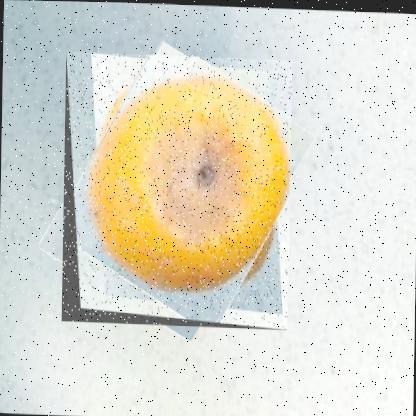orange_rotten: (60, 50, 292, 329)
